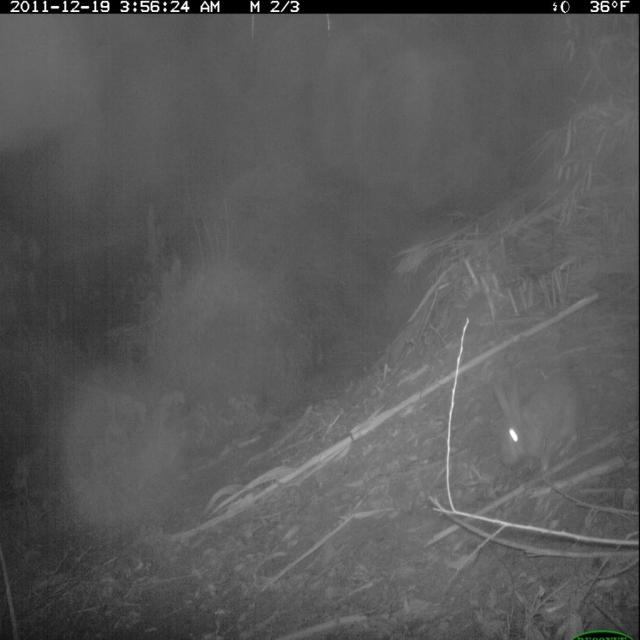rabbit: (490, 362, 594, 471)
